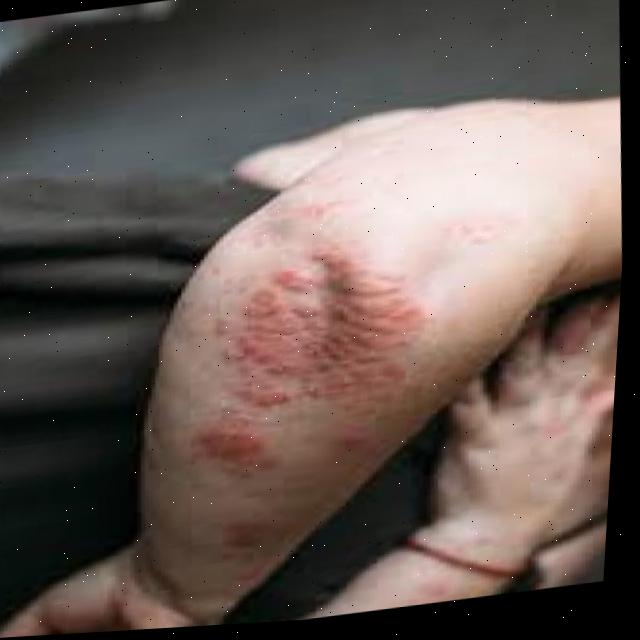Eczema: (146, 244, 436, 572)
